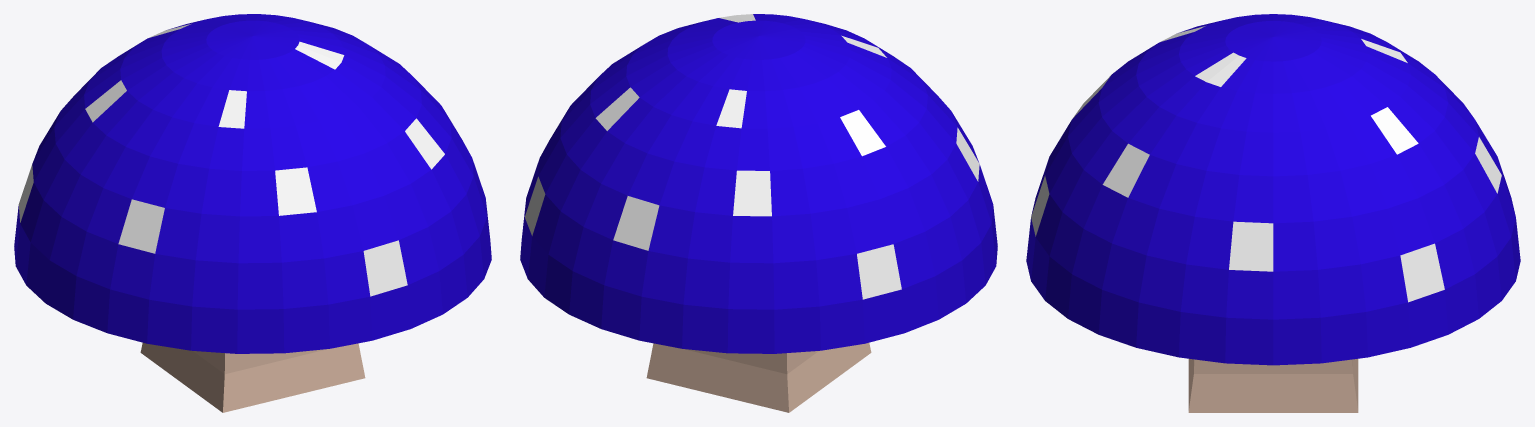
File: Mushroom_blue.fbx
3 renders of one model, left to right at view 1: azimuth 30°, elevation 25°; view 2: azimuth 150°, elevation 25°; view 3: azimuth 270°, elevation 25°, orthographic. The views are drawn at different scales.
Parts seen in each view (by area): view 1: Mushroom; view 2: Mushroom; view 3: Mushroom.
Boxes of the visible parts, x1,y1,x2,y2 form: Mushroom: (14, 14, 491, 412); Mushroom: (520, 14, 997, 412); Mushroom: (1026, 14, 1520, 412).
Size of the model in its own units: 648 by 492 by 648.
